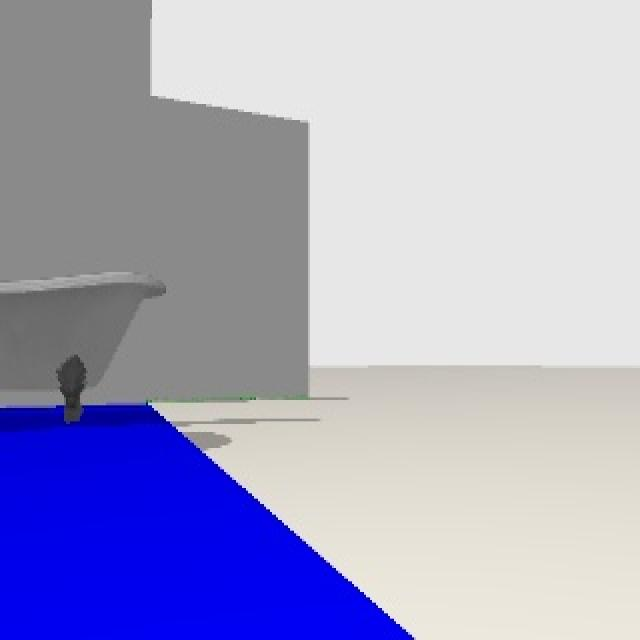bathtub: (0, 272, 168, 424)
